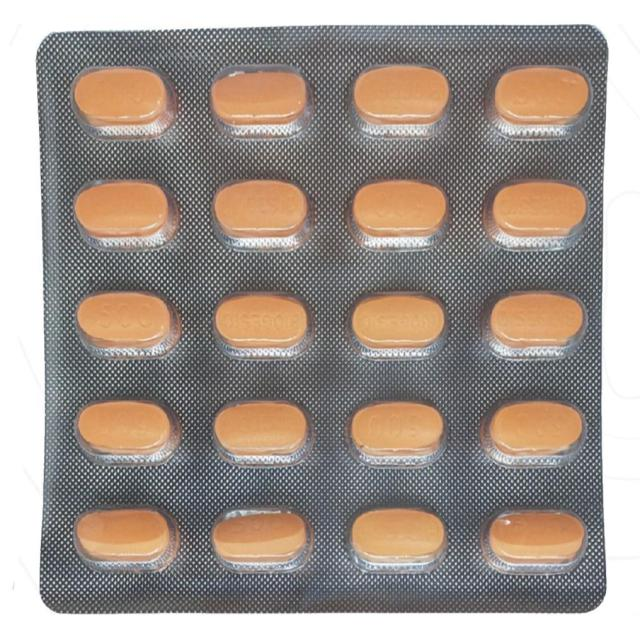blister: (30, 20, 616, 619)
